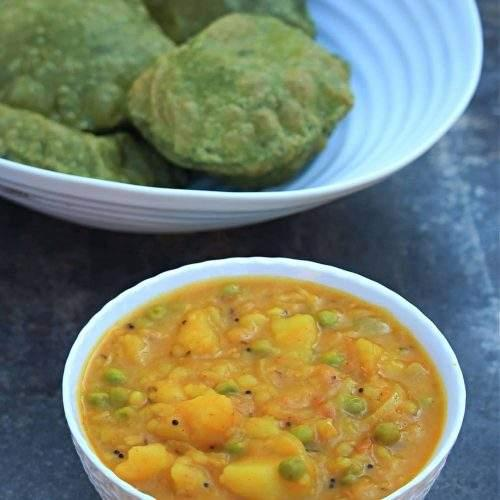puri: (4, 4, 366, 190)
